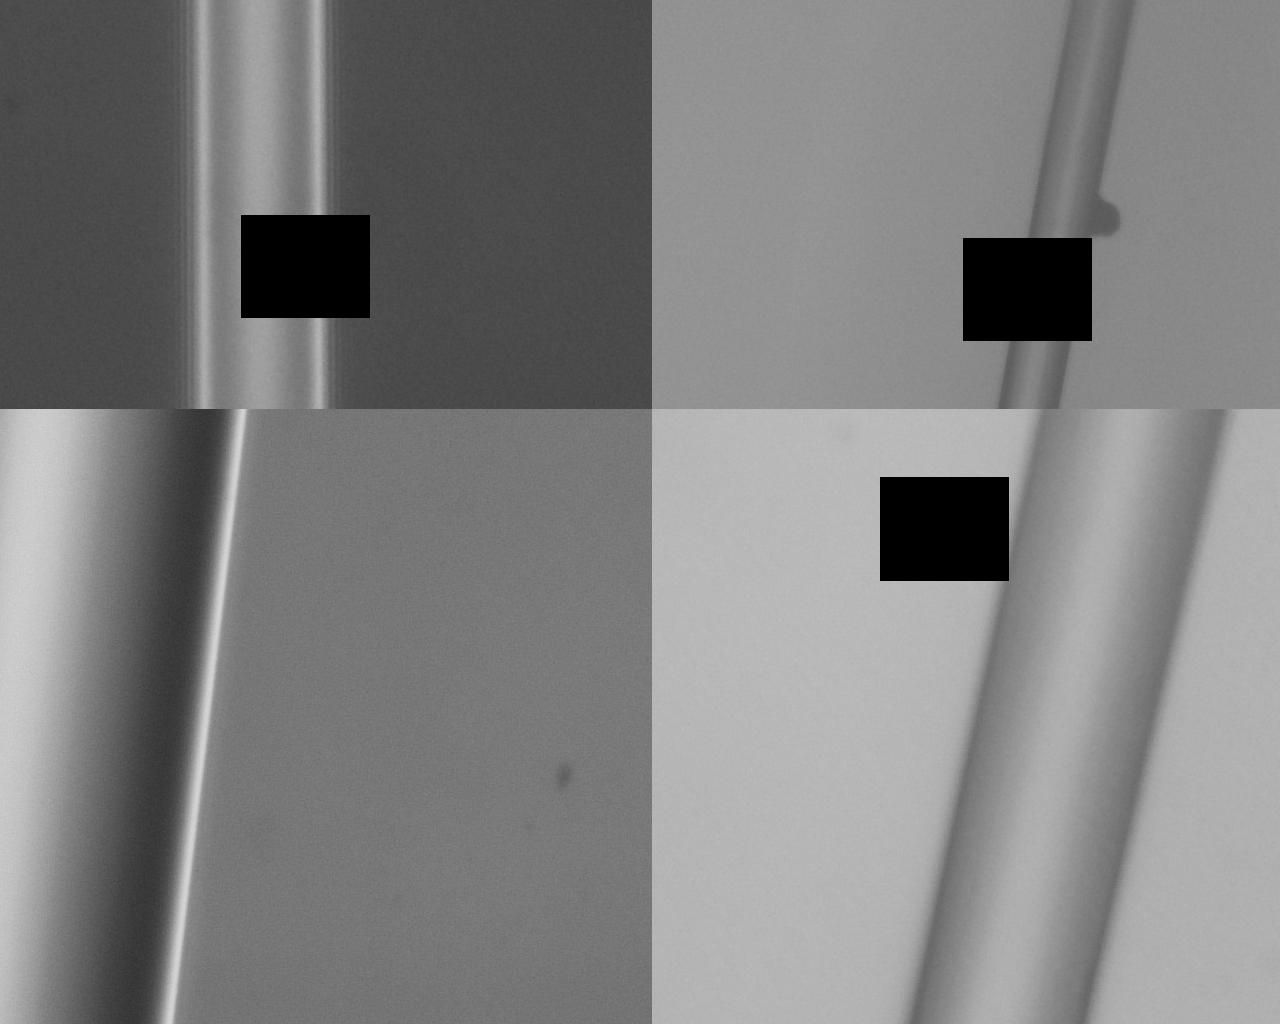fiber: (343, 0, 1068, 1024)
